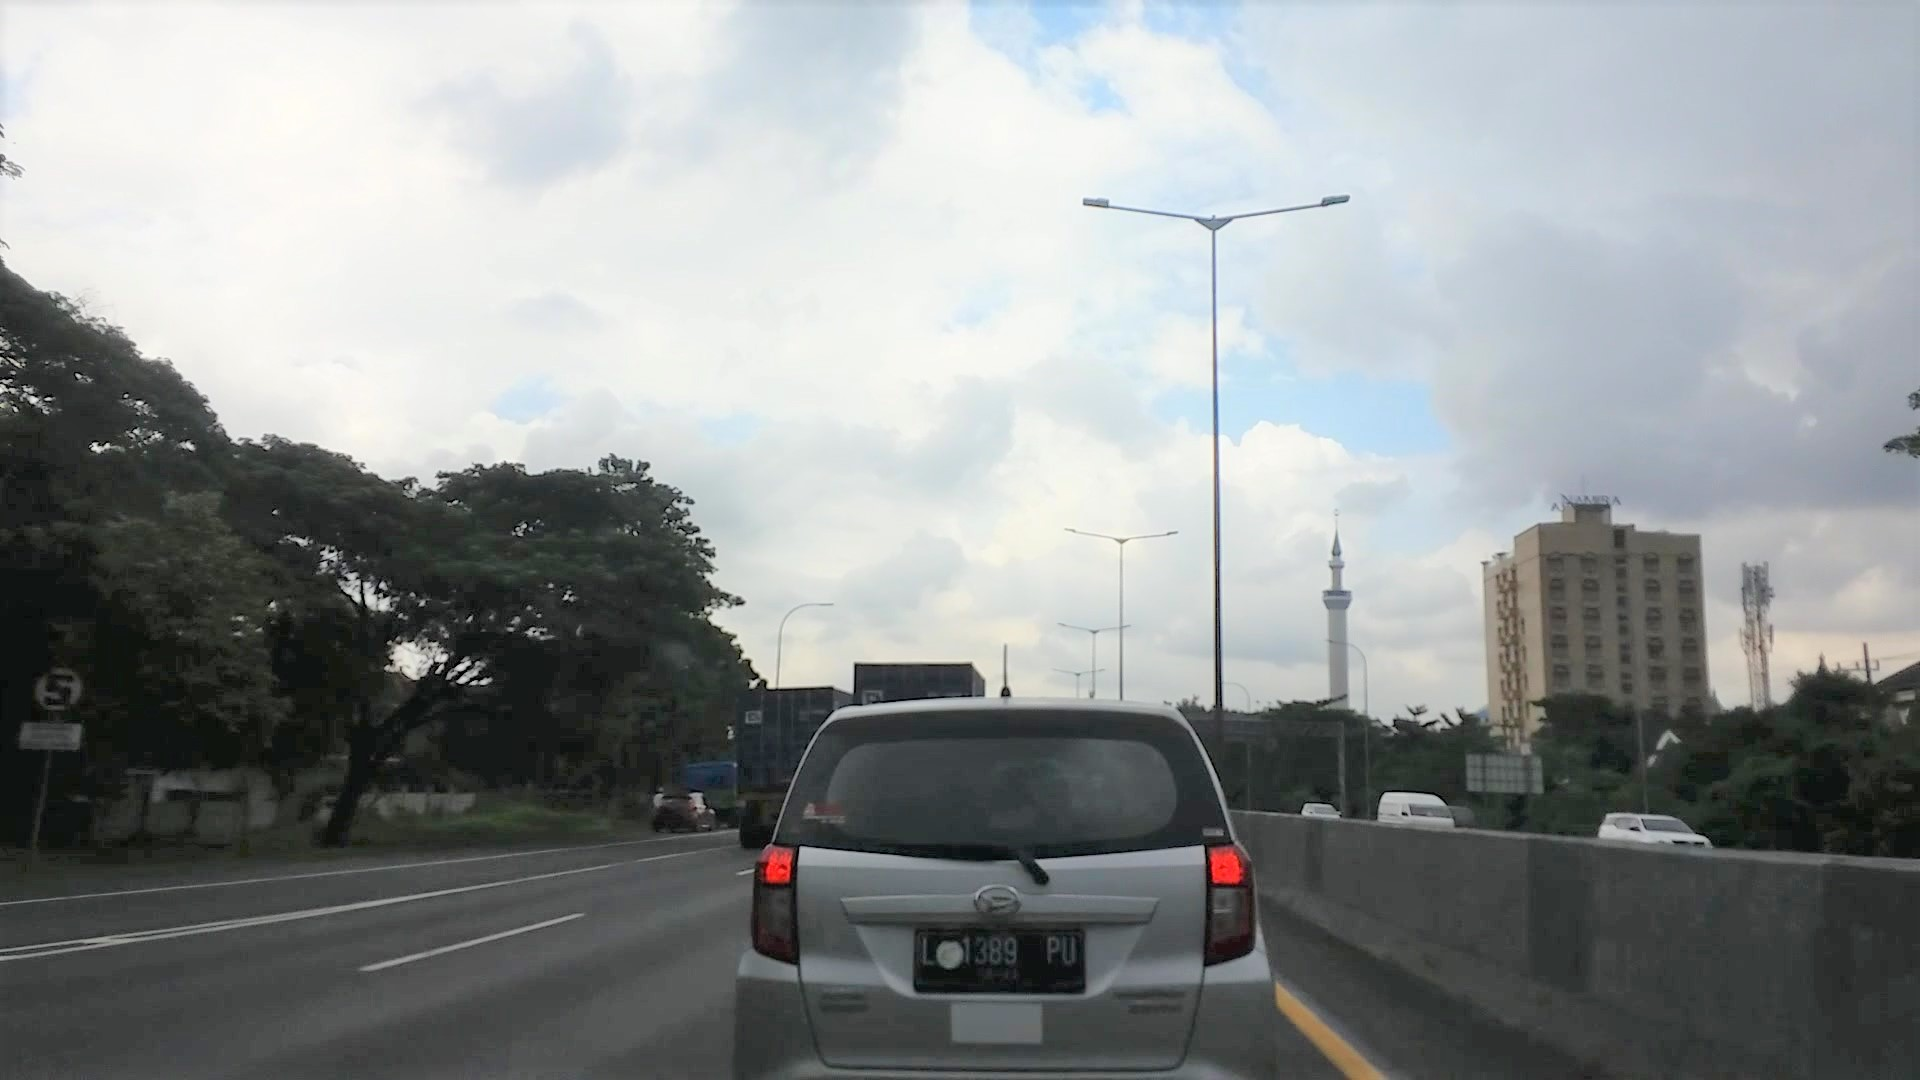plate_positive: (914, 927, 1087, 996)
